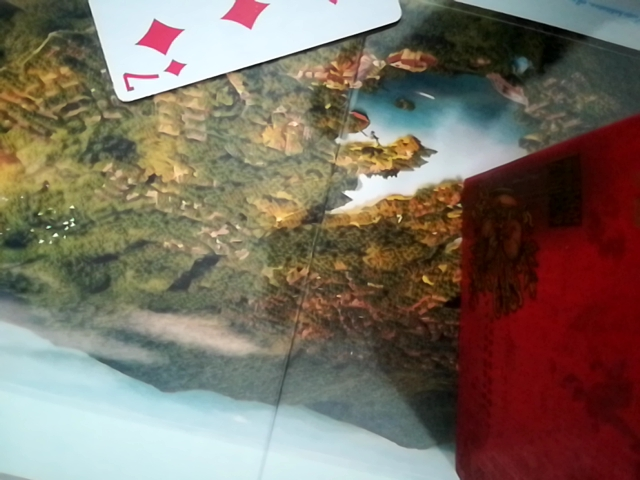fk 7: (44, 1, 403, 98)
